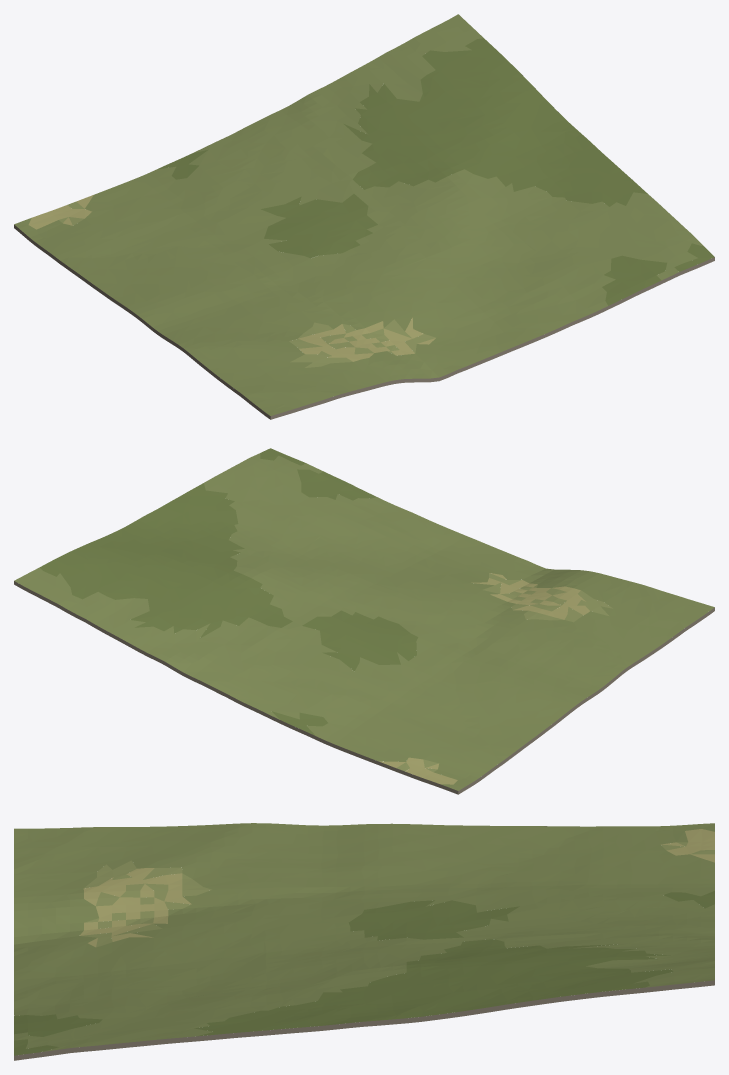
Rendered from parca_+2_-8-uzak.glb.
3 views of the same model, one above another, from view 1: azimuth 30°, elevation 25°; view 2: azimuth 150°, elevation 25°; view 3: azimuth 270°, elevation 25° (orthographic). The views are drawn at different scales.
Parts seen in each view (by area): view 1: parca_+2_-8_arazi_uzak; view 2: parca_+2_-8_arazi_uzak; view 3: parca_+2_-8_arazi_uzak.
Boxes of the visible parts, x1,y1,x2,y2 form: parca_+2_-8_arazi_uzak: [14, 14, 714, 419]; parca_+2_-8_arazi_uzak: [14, 448, 714, 794]; parca_+2_-8_arazi_uzak: [14, 823, 714, 1060].
Size of the model in its own units: 1000 by 241 by 1000.
